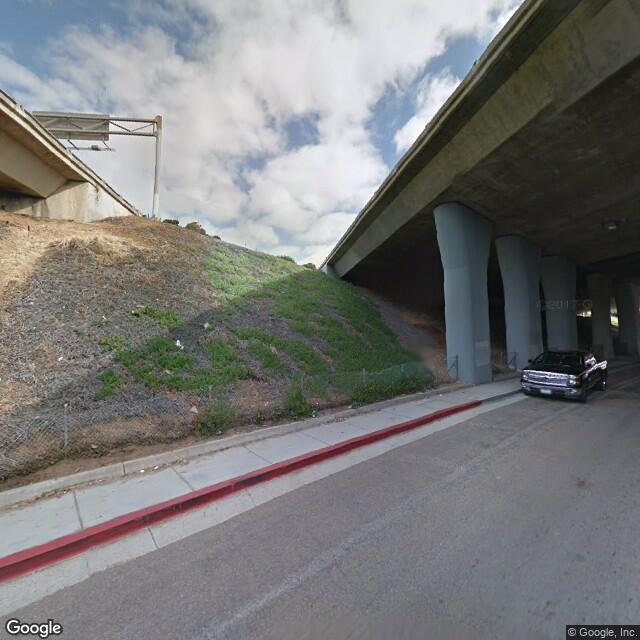litter: (136, 465, 169, 473)
